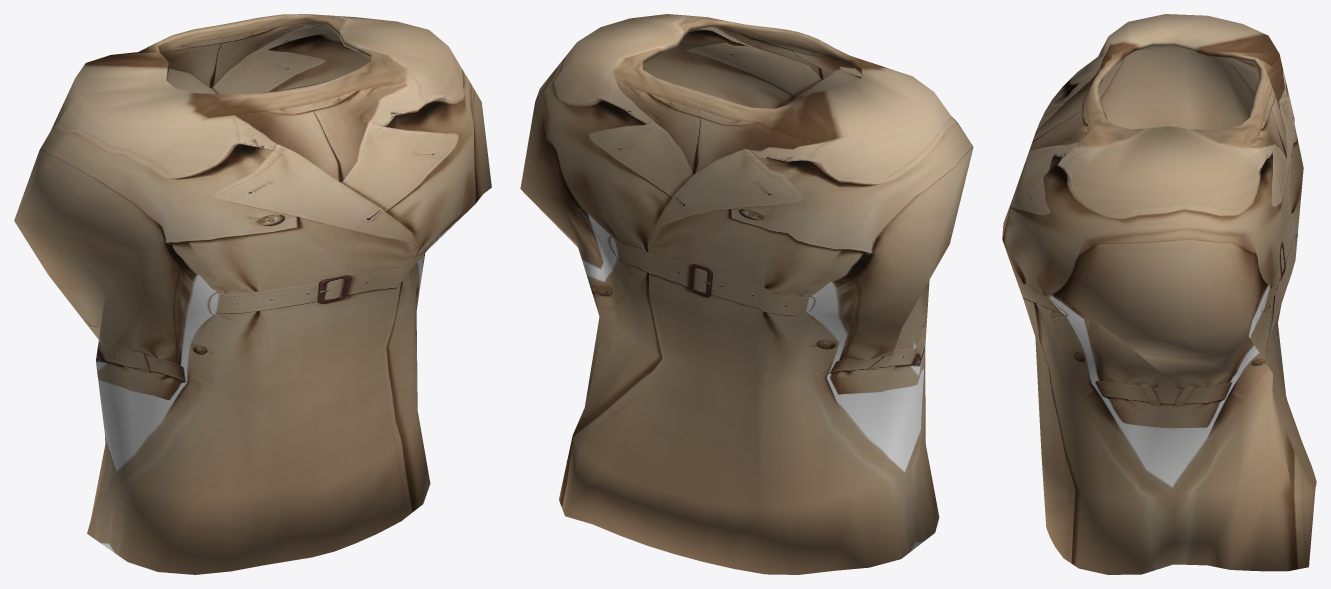
3 views of the same model, side by side, from view 1: azimuth 30°, elevation 25°; view 2: azimuth 150°, elevation 25°; view 3: azimuth 270°, elevation 25° (orthographic). The views are drawn at different scales.
Visible parts, largest first — view 1: garment; view 2: garment; view 3: garment.
Boxes of the visible parts, x1,y1,x2,y2 form: garment: (14,14,491,574); garment: (520,14,973,574); garment: (1002,14,1316,574).
Bounding box in the file's own units: 0.5477 × 0.564 × 0.3591.
Materials: 1 (1 with a texture image).
